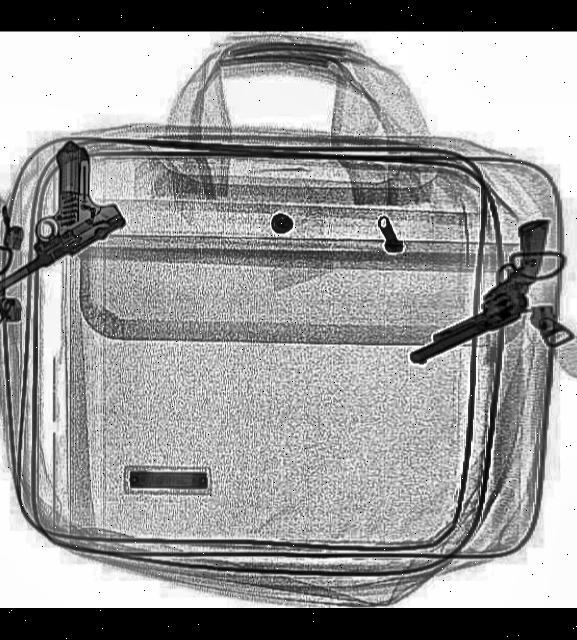Gun: (380, 212, 577, 366), (0, 136, 127, 281)
